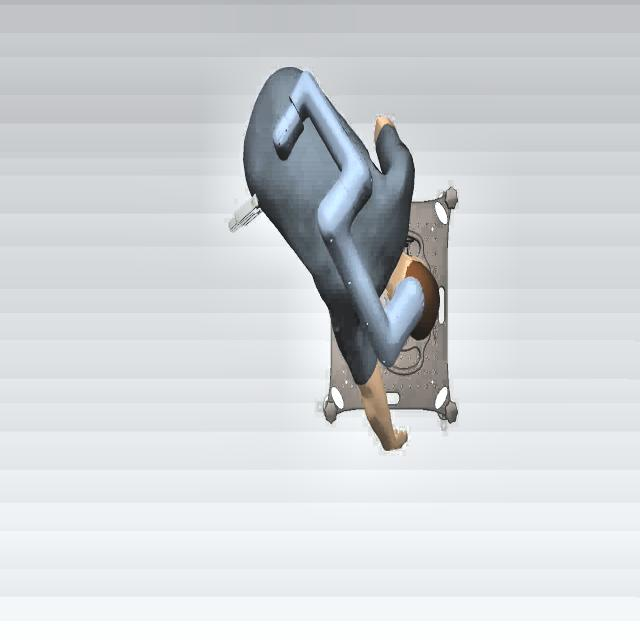robot: (270, 58, 447, 387)
